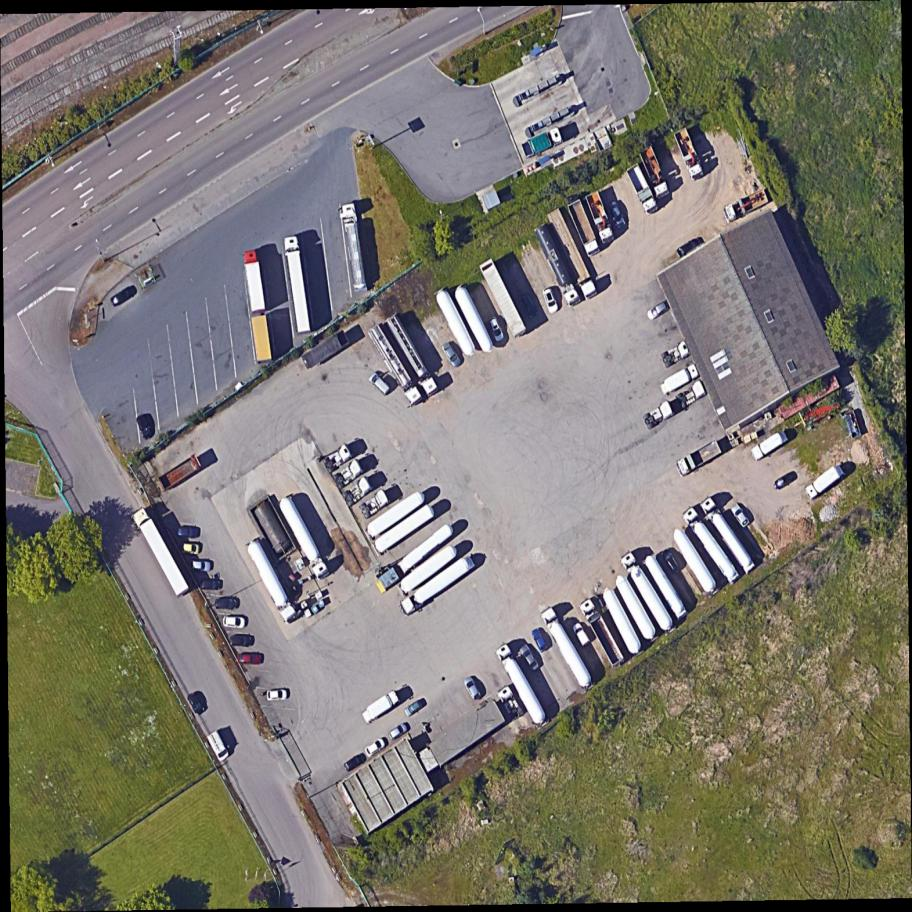large-vehicle: (128, 506, 193, 603), (489, 639, 554, 730), (541, 205, 601, 302), (697, 494, 762, 578), (244, 538, 303, 626), (275, 495, 333, 583), (531, 223, 587, 313), (399, 553, 475, 615), (619, 552, 677, 633), (682, 507, 742, 584), (382, 314, 438, 396), (539, 607, 594, 690), (337, 196, 371, 297), (280, 232, 313, 336), (641, 381, 708, 431), (432, 287, 479, 358), (242, 252, 272, 362), (576, 598, 624, 666), (372, 505, 435, 554), (364, 489, 425, 538), (563, 196, 605, 262), (716, 184, 774, 227), (581, 188, 620, 246), (622, 162, 662, 218), (635, 145, 673, 202), (357, 685, 406, 728), (801, 462, 849, 505), (516, 124, 568, 162), (676, 438, 724, 477), (673, 127, 705, 178), (657, 363, 702, 398), (748, 429, 790, 463), (339, 474, 378, 510), (356, 488, 393, 521), (330, 457, 366, 490), (320, 441, 356, 474), (659, 341, 692, 369)
small-vehicle: (514, 641, 543, 676), (204, 729, 232, 763), (133, 411, 159, 445), (460, 672, 486, 705), (727, 501, 754, 532), (109, 283, 140, 309), (659, 546, 685, 577), (366, 370, 394, 398), (440, 341, 465, 370), (528, 625, 551, 656), (606, 199, 628, 231), (674, 236, 703, 260), (184, 690, 208, 717), (570, 621, 592, 650), (486, 314, 508, 343), (386, 719, 413, 742), (362, 736, 389, 759), (342, 750, 369, 773), (541, 287, 562, 316), (645, 300, 671, 323), (771, 472, 796, 493), (402, 698, 425, 718), (229, 633, 256, 649), (213, 596, 241, 611), (221, 614, 247, 630), (174, 525, 202, 539), (199, 577, 224, 592), (265, 687, 288, 703), (237, 652, 265, 665), (190, 560, 213, 573), (181, 542, 202, 554)
